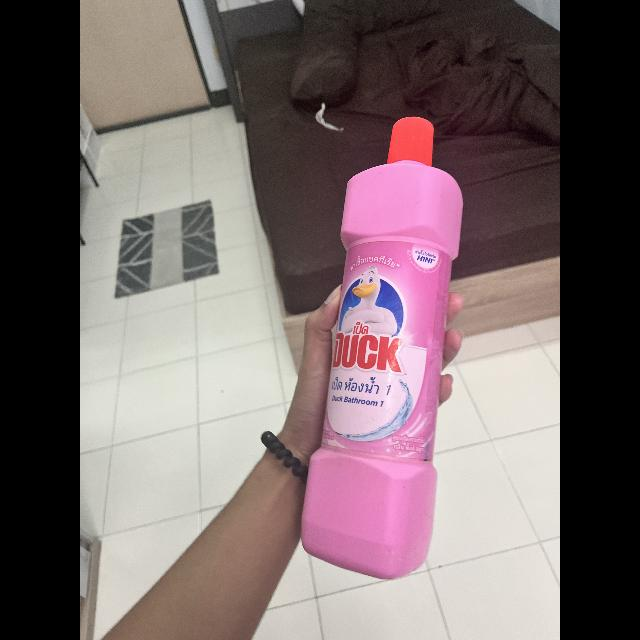chemical_plastic_bottle: (304, 109, 468, 586)
